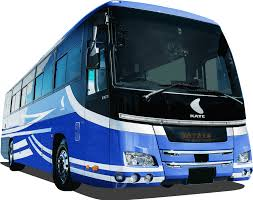bus: (1, 1, 252, 192)
